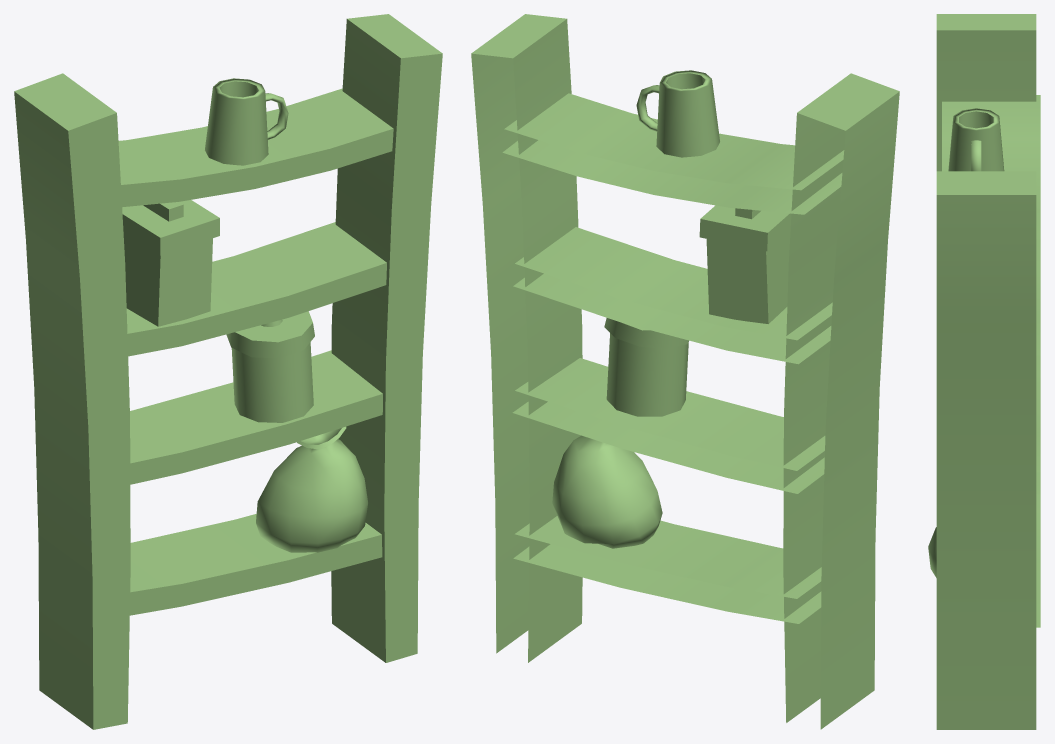
File: cupboard_Lv1.fbx
3 renders of one model, left to right at view 1: azimuth 30°, elevation 25°; view 2: azimuth 150°, elevation 25°; view 3: azimuth 270°, elevation 25°, orthographic. The views are drawn at different scales.
Parts seen in each view (by area): view 1: cupboard_2; view 2: cupboard_2; view 3: cupboard_2.
Boxes of the visible parts, x1,y1,x2,y2 form: cupboard_2: (14, 14, 442, 729); cupboard_2: (471, 14, 899, 729); cupboard_2: (928, 14, 1040, 729).
Size of the model in its own units: 113 by 177 by 31.94.
